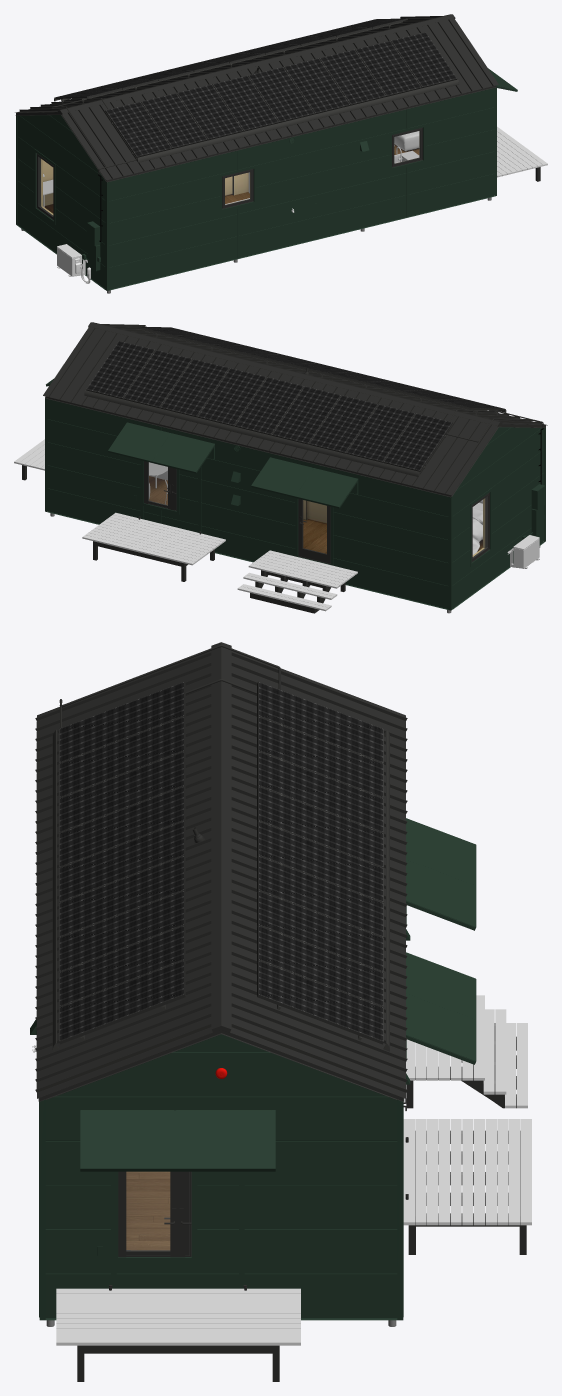
The model's file is oneBedroom.glb.
3 views of the same model, one above another, from view 1: azimuth 30°, elevation 25°; view 2: azimuth 150°, elevation 25°; view 3: azimuth 270°, elevation 25° (orthographic). The views are drawn at different scales.
Parts seen in each view (by area): view 1: Wall_e_1B, SP_Right_1B, Roof_1B, SP_Left_1B, Glass_1B, Shield_Right_1B, Frame_Around_1B, Frame_DW_1B, Deck_Left_1B, Window_1B, Wall_i_1B, Air_purification_1B (+4 smaller); view 2: Wall_e_FrontWindow_1B, SP_Left_1B, Roof_1B, Wall_e_1B, Wall_e_FrontDoor_1B, Deck_Front_1B, Desk_1B, SP_Right_1B, Awning_DoorEnt_Front_1B, Awning_Front_1B, Shield_Left_1B, Frame_Around_1B (+19 smaller); view 3: Roof_1B, Wall_e_LeftDoor_1B, SP_Right_1B, SP_Left_1B, Deck_Left_1B, Deck_Front_1B, Awning_Left_1B, Wall_e_LefttWindow_1B, Desk_1B, Awning_Front_1B, Awning_DoorEnt_Front_1B, Floor_1B (+12 smaller).
Part boxes in pixels (box(x1,y1,x2,y2)): Wall_e_1B: box(18, 88, 494, 289); SP_Right_1B: box(105, 32, 457, 157); Roof_1B: box(15, 14, 498, 182); SP_Left_1B: box(55, 18, 407, 98); Glass_1B: box(38, 131, 419, 215); Shield_Right_1B: box(136, 79, 459, 162); Frame_Around_1B: box(16, 86, 496, 290); Frame_DW_1B: box(34, 109, 425, 258); Deck_Left_1B: box(497, 126, 547, 177); Window_1B: box(36, 127, 422, 220); Wall_i_1B: box(41, 131, 419, 215); Air_purification_1B: box(57, 244, 90, 283); Wall_e_FrontWindow_1B: box(47, 399, 448, 608); SP_Left_1B: box(86, 341, 452, 471); Roof_1B: box(43, 322, 547, 497); Wall_e_1B: box(452, 427, 543, 607); Wall_e_FrontDoor_1B: box(47, 419, 295, 561); Deck_Front_1B: box(82, 512, 225, 565); Desk_1B: box(237, 550, 357, 611); SP_Right_1B: box(137, 326, 504, 410); Awning_DoorEnt_Front_1B: box(251, 457, 358, 508); Awning_Front_1B: box(108, 422, 214, 473); Shield_Left_1B: box(84, 390, 420, 476); Frame_Around_1B: box(45, 398, 545, 610); Roof_1B: box(35, 642, 407, 1101); Wall_e_LeftDoor_1B: box(45, 1034, 397, 1317); SP_Right_1B: box(59, 681, 185, 1044); SP_Left_1B: box(257, 681, 383, 1044); Deck_Left_1B: box(56, 1288, 300, 1345); Deck_Front_1B: box(403, 1119, 531, 1225); Awning_Left_1B: box(80, 1110, 275, 1171); Wall_e_LefttWindow_1B: box(45, 1171, 397, 1288); Desk_1B: box(406, 995, 527, 1108); Awning_Front_1B: box(406, 952, 476, 1064); Awning_DoorEnt_Front_1B: box(406, 818, 476, 930); Floor_1B: box(126, 1171, 170, 1250).
Size of the model in its own units: 13.29 by 4.26 by 6.26.
Materials: 29 (3 with a texture image).
